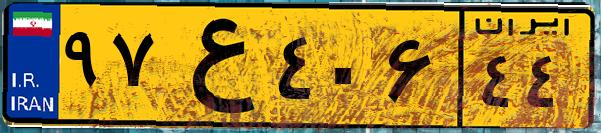0: (330, 28, 385, 110)
4: (270, 28, 330, 110), (475, 38, 525, 113), (525, 38, 570, 115)
6: (385, 28, 445, 110)
7: (110, 28, 158, 98)
9: (57, 26, 110, 100)
ع: (158, 12, 270, 120)
